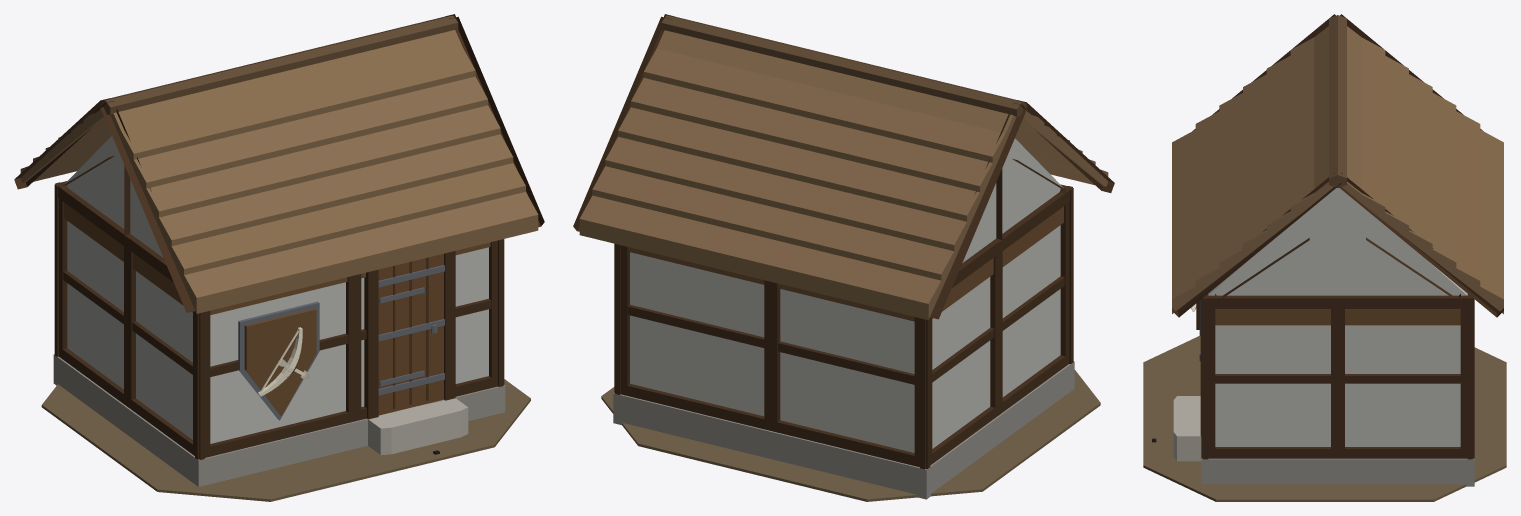
Rendered from armory.obj.
3 views of the same model, side by side, from view 1: azimuth 30°, elevation 25°; view 2: azimuth 150°, elevation 25°; view 3: azimuth 270°, elevation 25° (orthographic). The views are drawn at different scales.
Visible parts, largest first — view 1: Cut.Roof, Cut.Wall.Front, Ground, Cut.Wall.Left, Cut.Wall.Timber.Post, Plinth, Cut.Wall.Door, Cut.Roof.Ridge, Cut.Roof.Shield, Cut.Wall.Timber.Sill, Cut.Roof.Gable.Barge, Step (+10 smaller); view 2: Cut.Roof, Cut.Wall.Back, Cut.Wall.Left, Plinth, Cut.Wall.Timber.Post, Ground, Cut.Roof.Ridge, Cut.Wall.Timber.Sill, Cut.Wall.Timber.Rail, Cut.Roof.Gable.Barge, Cut.Roof.Gable, Cut.Roof.Band (+2 smaller); view 3: Cut.Roof, Cut.Wall.Right, Ground, Cut.Roof.Gable, Plinth, Cut.Wall.Timber.Post, Cut.Roof.Band, Cut.Roof.Timber.Plate, Cut.Roof.Ridge, Cut.Roof.Gable.Barge, Cut.Wall.Timber.Sill, Cut.Wall.Timber.Rail (+4 smaller).
Part boxes in pixels (x1=…): Cut.Roof: x1=20, y1=30, x2=538, y2=313; Cut.Wall.Front: x1=210, y1=247, x2=488, y2=443; Ground: x1=41, y1=379, x2=530, y2=501; Cut.Wall.Left: x1=72, y1=224, x2=192, y2=439; Cut.Wall.Timber.Post: x1=54, y1=181, x2=504, y2=459; Plinth: x1=53, y1=354, x2=505, y2=486; Cut.Wall.Door: x1=378, y1=253, x2=443, y2=415; Cut.Roof.Ridge: x1=100, y1=15, x2=458, y2=114; Cut.Roof.Shield: x1=244, y1=308, x2=316, y2=415; Cut.Wall.Timber.Sill: x1=59, y1=348, x2=491, y2=457; Cut.Roof.Gable.Barge: x1=14, y1=14, x2=544, y2=312; Step: x1=368, y1=398, x2=468, y2=455; Cut.Roof: x1=579, y1=30, x2=1108, y2=320; Cut.Wall.Back: x1=630, y1=252, x2=914, y2=452; Cut.Wall.Left: x1=932, y1=229, x2=1055, y2=448; Plinth: x1=613, y1=361, x2=1074, y2=499; Cut.Wall.Timber.Post: x1=614, y1=185, x2=1073, y2=469; Ground: x1=601, y1=370, x2=1100, y2=501; Cut.Roof.Ridge: x1=661, y1=15, x2=1026, y2=116; Cut.Wall.Timber.Sill: x1=620, y1=354, x2=1069, y2=465; Cut.Wall.Timber.Rail: x1=627, y1=276, x2=1064, y2=384; Cut.Roof.Gable.Barge: x1=573, y1=14, x2=1114, y2=319; Cut.Roof.Gable: x1=962, y1=138, x2=1063, y2=262; Cut.Roof.Band: x1=628, y1=206, x2=1063, y2=321; Cut.Roof: x1=1172, y1=26, x2=1503, y2=314; Cut.Wall.Right: x1=1224, y1=325, x2=1451, y2=446; Ground: x1=1143, y1=335, x2=1506, y2=501; Cut.Roof.Gable: x1=1208, y1=188, x2=1467, y2=295; Plinth: x1=1201, y1=458, x2=1474, y2=486; Cut.Wall.Timber.Post: x1=1201, y1=294, x2=1474, y2=459; Cut.Roof.Band: x1=1215, y1=309, x2=1460, y2=325; Cut.Roof.Timber.Plate: x1=1204, y1=295, x2=1471, y2=309; Cut.Roof.Ridge: x1=1329, y1=15, x2=1346, y2=187; Cut.Roof.Gable.Barge: x1=1172, y1=14, x2=1503, y2=317; Cut.Wall.Timber.Sill: x1=1208, y1=447, x2=1467, y2=458; Cut.Wall.Timber.Rail: x1=1215, y1=374, x2=1460, y2=383.
Bounding box in the file's own units: 4.7 × 4.1 × 4.2.
